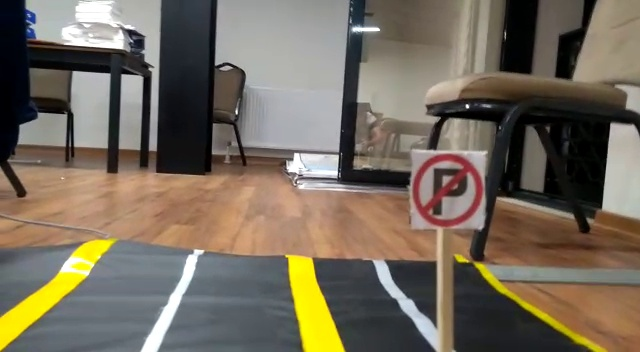park_yapilmaz: (411, 148, 492, 230)
